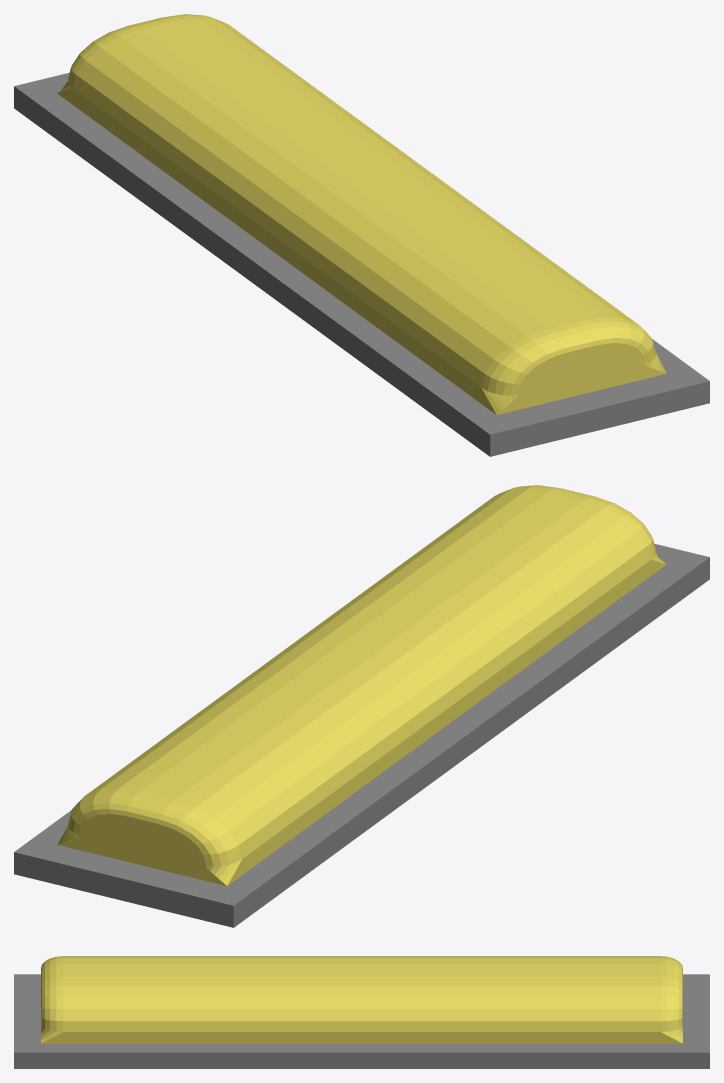
Rendered from Light.fbx.
3 renders of one model, top to bottom at view 1: azimuth 30°, elevation 25°; view 2: azimuth 150°, elevation 25°; view 3: azimuth 270°, elevation 25°, orthographic. The views are drawn at different scales.
Parts seen in each view (by area): view 1: Light; view 2: Light; view 3: Light.
Boxes of the visible parts, bbox=[...] form: Light: bbox=[14, 14, 709, 456]; Light: bbox=[14, 485, 709, 927]; Light: bbox=[14, 956, 709, 1068].
Bounding box in the file's own units: 200 × 70.45 × 750.
